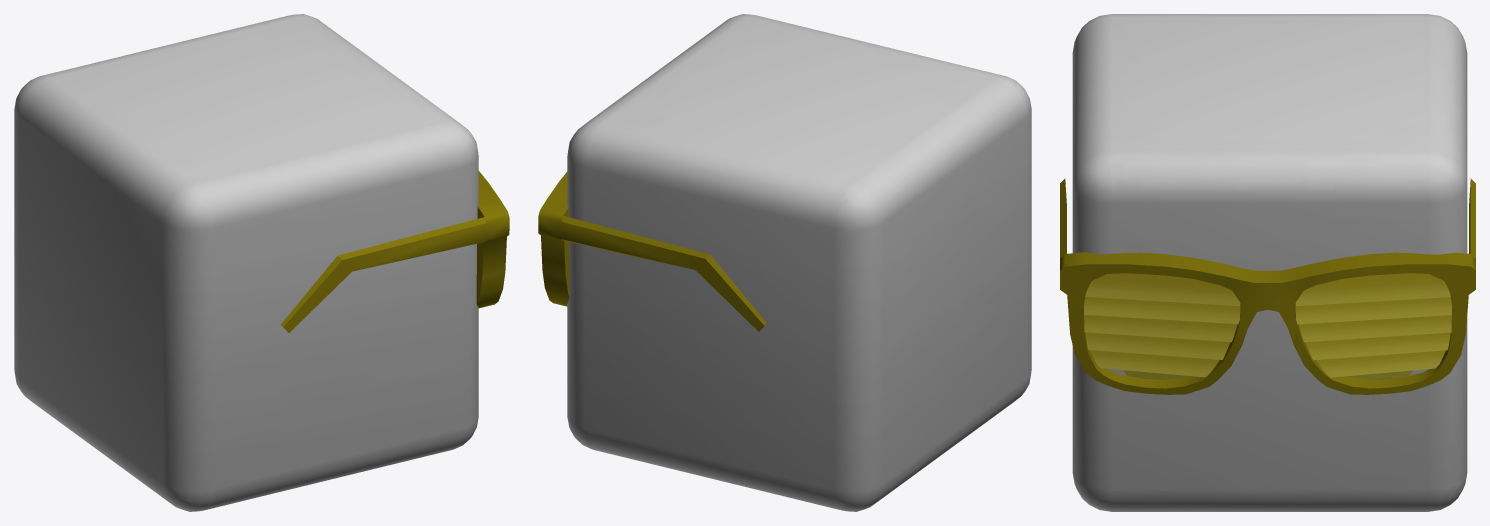
The model's file is cube_shutters.glb.
The picture shows the model from 3 angles, left to right: view 1: azimuth 30°, elevation 25°; view 2: azimuth 150°, elevation 25°; view 3: azimuth 270°, elevation 25°; orthographic projection. The views are drawn at different scales.
Visible parts, largest first — view 1: cube_shutters; view 2: cube_shutters; view 3: cube_shutters.
Boxes of the visible parts, x1=… form: cube_shutters: x1=14, y1=14, x2=509, y2=511; cube_shutters: x1=538, y1=14, x2=1031, y2=511; cube_shutters: x1=1060, y1=14, x2=1475, y2=511.
Bounding box in the file's own units: 2.22 × 2 × 2.11.
Materials: 2 (2 with a texture image).
